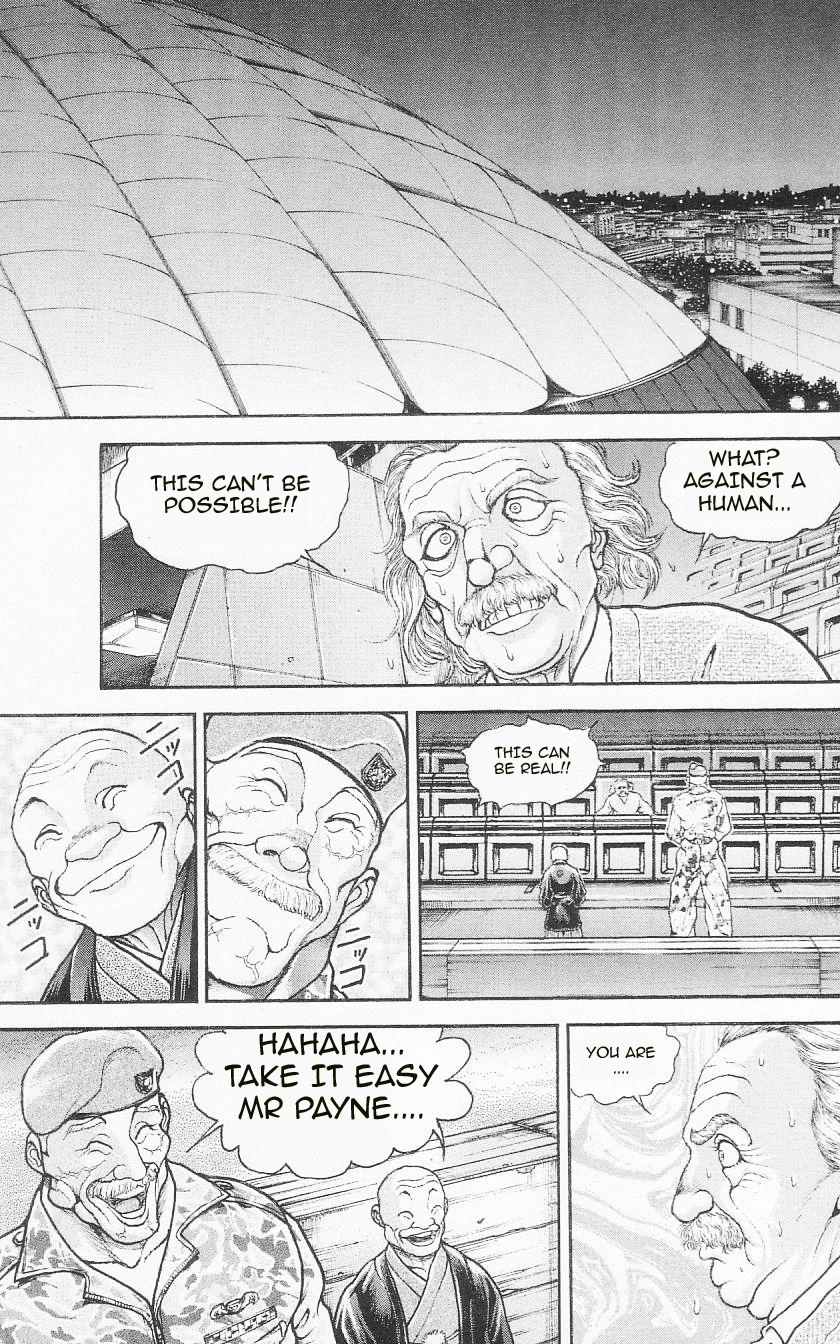Baloon: (188, 1016, 474, 1178), (112, 449, 355, 574), (657, 437, 839, 543), (459, 720, 608, 806), (568, 1031, 680, 1106)
Vignetta: (1, 1, 837, 423), (92, 443, 840, 682), (1, 1029, 557, 1344), (414, 708, 840, 996), (570, 1023, 840, 1344), (206, 710, 412, 996), (1, 708, 194, 1008)
